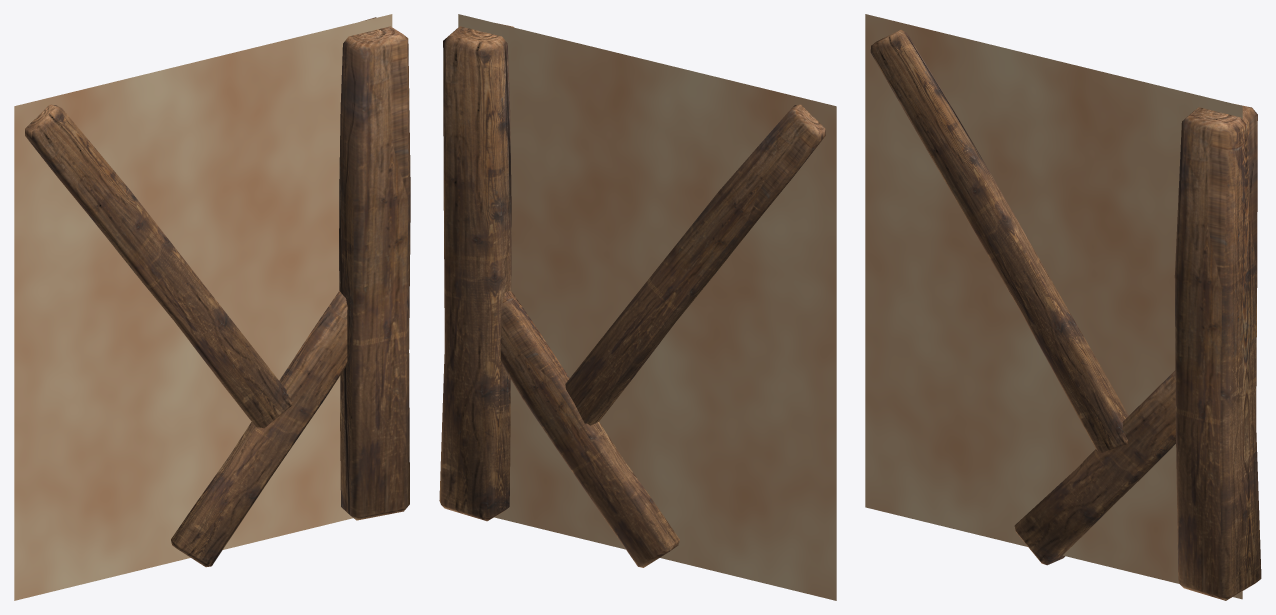
File: 5 Wall wood.fbx
3 views of the same model, side by side, from view 1: azimuth 30°, elevation 25°; view 2: azimuth 150°, elevation 25°; view 3: azimuth 330°, elevation 25° (orthographic).
Visible parts, largest first — view 1: 5 Wall wood; view 2: 5 Wall wood; view 3: 5 Wall wood.
Boxes of the visible parts, <box> form: 5 Wall wood: <box>14,14,410,600</box>; 5 Wall wood: <box>439,14,836,600</box>; 5 Wall wood: <box>865,14,1261,600</box>.
Size of the model in its own units: 2.04 by 2.54 by 0.3286.
